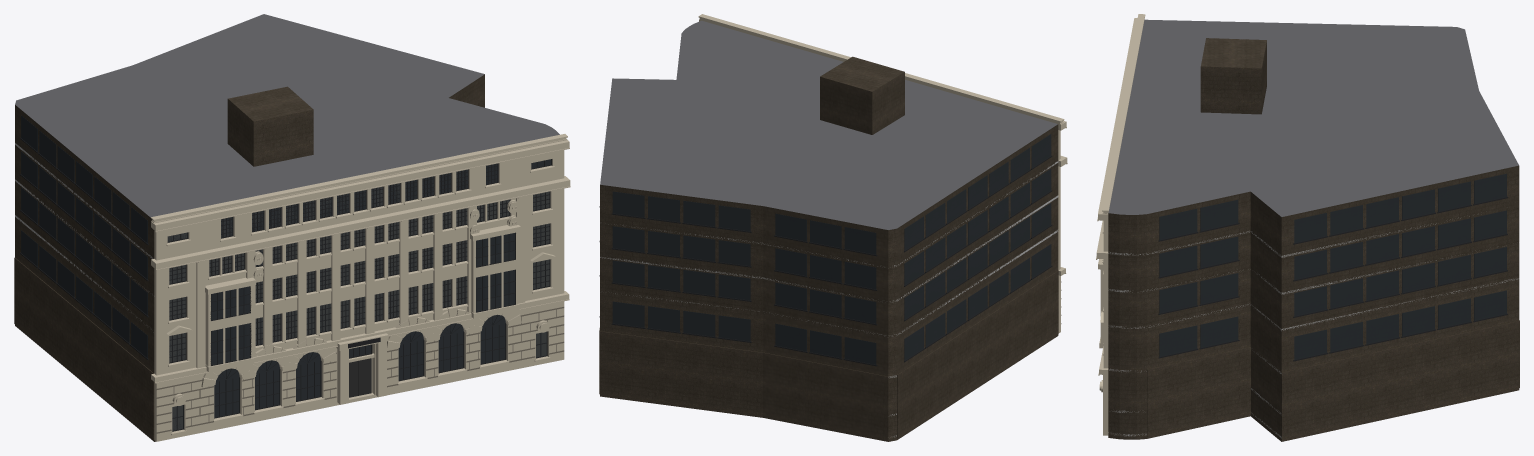
Rendered from hero4b_mobile.glb.
The picture shows the model from 3 angles, left to right: view 1: azimuth 30°, elevation 25°; view 2: azimuth 150°, elevation 25°; view 3: azimuth 270°, elevation 25°; orthographic projection. The views are drawn at different scales.
Visible parts, largest first — view 1: HERO_body, Facade_upper, Window_01_sill, Window_02_glass, Window_03_glass, Window_01_glass, Window_05_glass, Window_04_glass, Parapet, Window_04_sill, HERO_voussoir_015, Window_02_frame (+6 smaller); view 2: HERO_body, Window_02_glass, Window_04_glass, Window_03_glass, Window_05_glass, Facade_upper, Parapet, Window_02_frame, Window_03_frame, Window_04_frame, Window_05_frame, Floor_04; view 3: HERO_body, Window_03_glass, Window_02_glass, Window_04_glass, Window_05_glass, Facade_upper, Parapet, Window_03_frame, Window_05_frame, Window_02_frame, Window_04_frame, Window_01_sill (+2 smaller).
Part boxes in pixels (<box>): HERO_body: <box>14,14,559,441</box>; Facade_upper: <box>151,134,567,375</box>; Window_01_sill: <box>151,291,569,441</box>; Window_02_glass: <box>21,230,549,364</box>; Window_03_glass: <box>21,187,549,319</box>; Window_01_glass: <box>172,314,546,430</box>; Window_05_glass: <box>21,115,551,243</box>; Window_04_glass: <box>21,151,549,283</box>; Parapet: <box>151,138,569,246</box>; Window_04_sill: <box>151,176,570,287</box>; HERO_voussoir_015: <box>201,306,521,404</box>; Window_02_frame: <box>20,252,550,365</box>; HERO_body: <box>599,20,1058,441</box>; Window_02_glass: <box>612,244,1051,364</box>; Window_04_glass: <box>612,169,1051,289</box>; Window_03_glass: <box>612,203,1051,323</box>; Window_05_glass: <box>612,134,1051,254</box>; Facade_upper: <box>698,14,1064,270</box>; Parapet: <box>699,18,1066,130</box>; Window_02_frame: <box>599,265,1052,366</box>; Window_03_frame: <box>599,224,1052,325</box>; Window_04_frame: <box>599,190,1052,290</box>; Window_05_frame: <box>599,155,1052,256</box>; Floor_04: <box>600,195,1058,302</box>; HERO_body: <box>1108,19,1519,441</box>; Window_03_glass: <box>1159,247,1506,316</box>; Window_02_glass: <box>1159,290,1506,359</box>; Window_04_glass: <box>1159,210,1506,279</box>; Window_05_glass: <box>1159,173,1506,242</box>; Facade_upper: <box>1098,14,1145,368</box>; Parapet: <box>1097,18,1137,233</box>; Window_03_frame: <box>1158,270,1507,317</box>; Window_05_frame: <box>1158,196,1507,244</box>; Window_02_frame: <box>1158,313,1507,361</box>; Window_04_frame: <box>1158,233,1507,281</box>; Window_01_sill: <box>1098,346,1108,435</box>.
Size of the model in its own units: 38.64 by 24.43 by 34.67.
11 materials, 1 textured.
